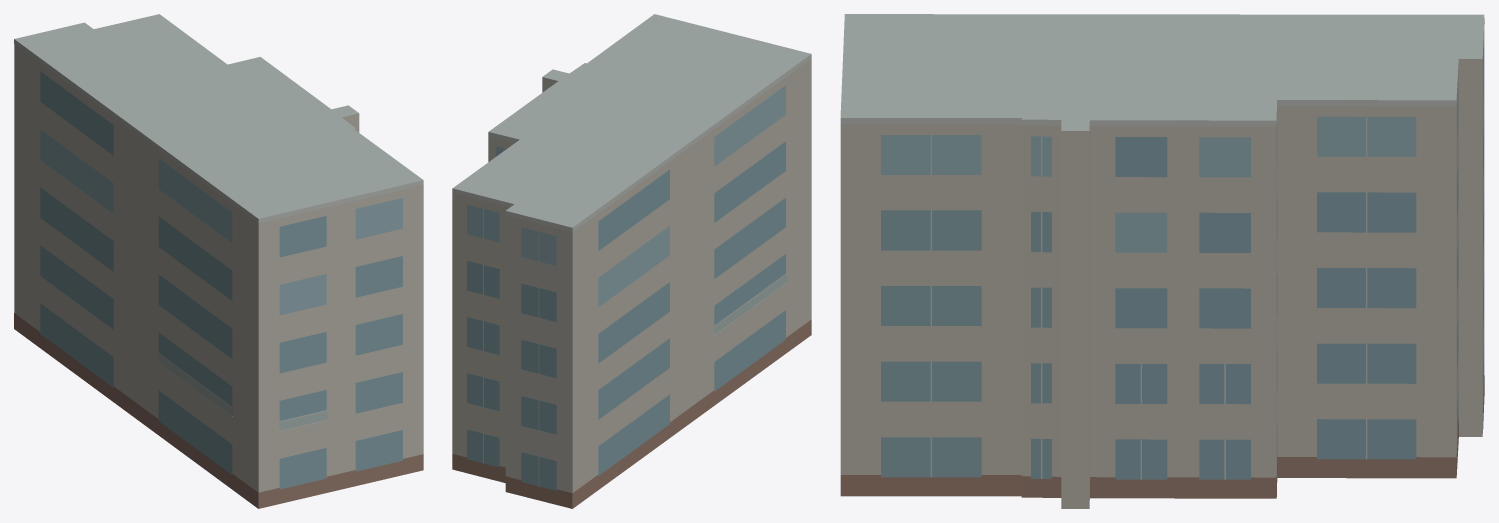
The model's file is survey-upis-32644430.glb.
3 renders of one model, left to right at view 1: azimuth 30°, elevation 25°; view 2: azimuth 150°, elevation 25°; view 3: azimuth 270°, elevation 25°, orthographic. The views are drawn at different scales.
Visible parts, largest first — view 1: survey-upis-32644430.tmp; view 2: survey-upis-32644430.tmp; view 3: survey-upis-32644430.tmp.
Boxes of the visible parts, x1=… form: survey-upis-32644430.tmp: x1=14, y1=14, x2=423, y2=508; survey-upis-32644430.tmp: x1=452, y1=14, x2=811, y2=508; survey-upis-32644430.tmp: x1=840, y1=14, x2=1484, y2=508.
Bounding box in the file's own units: 10.15 × 15.25 × 23.56.
